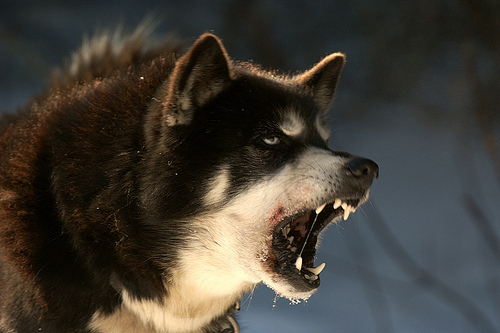dog: (0, 32, 382, 331)
